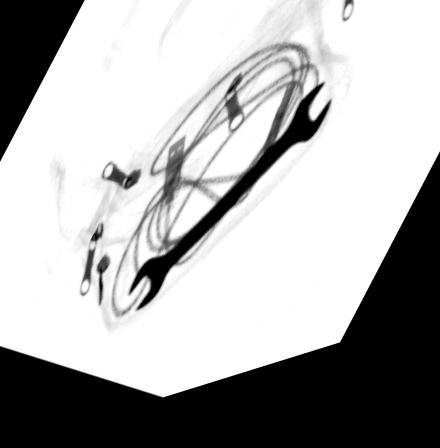Wrench: (125, 95, 336, 321)
